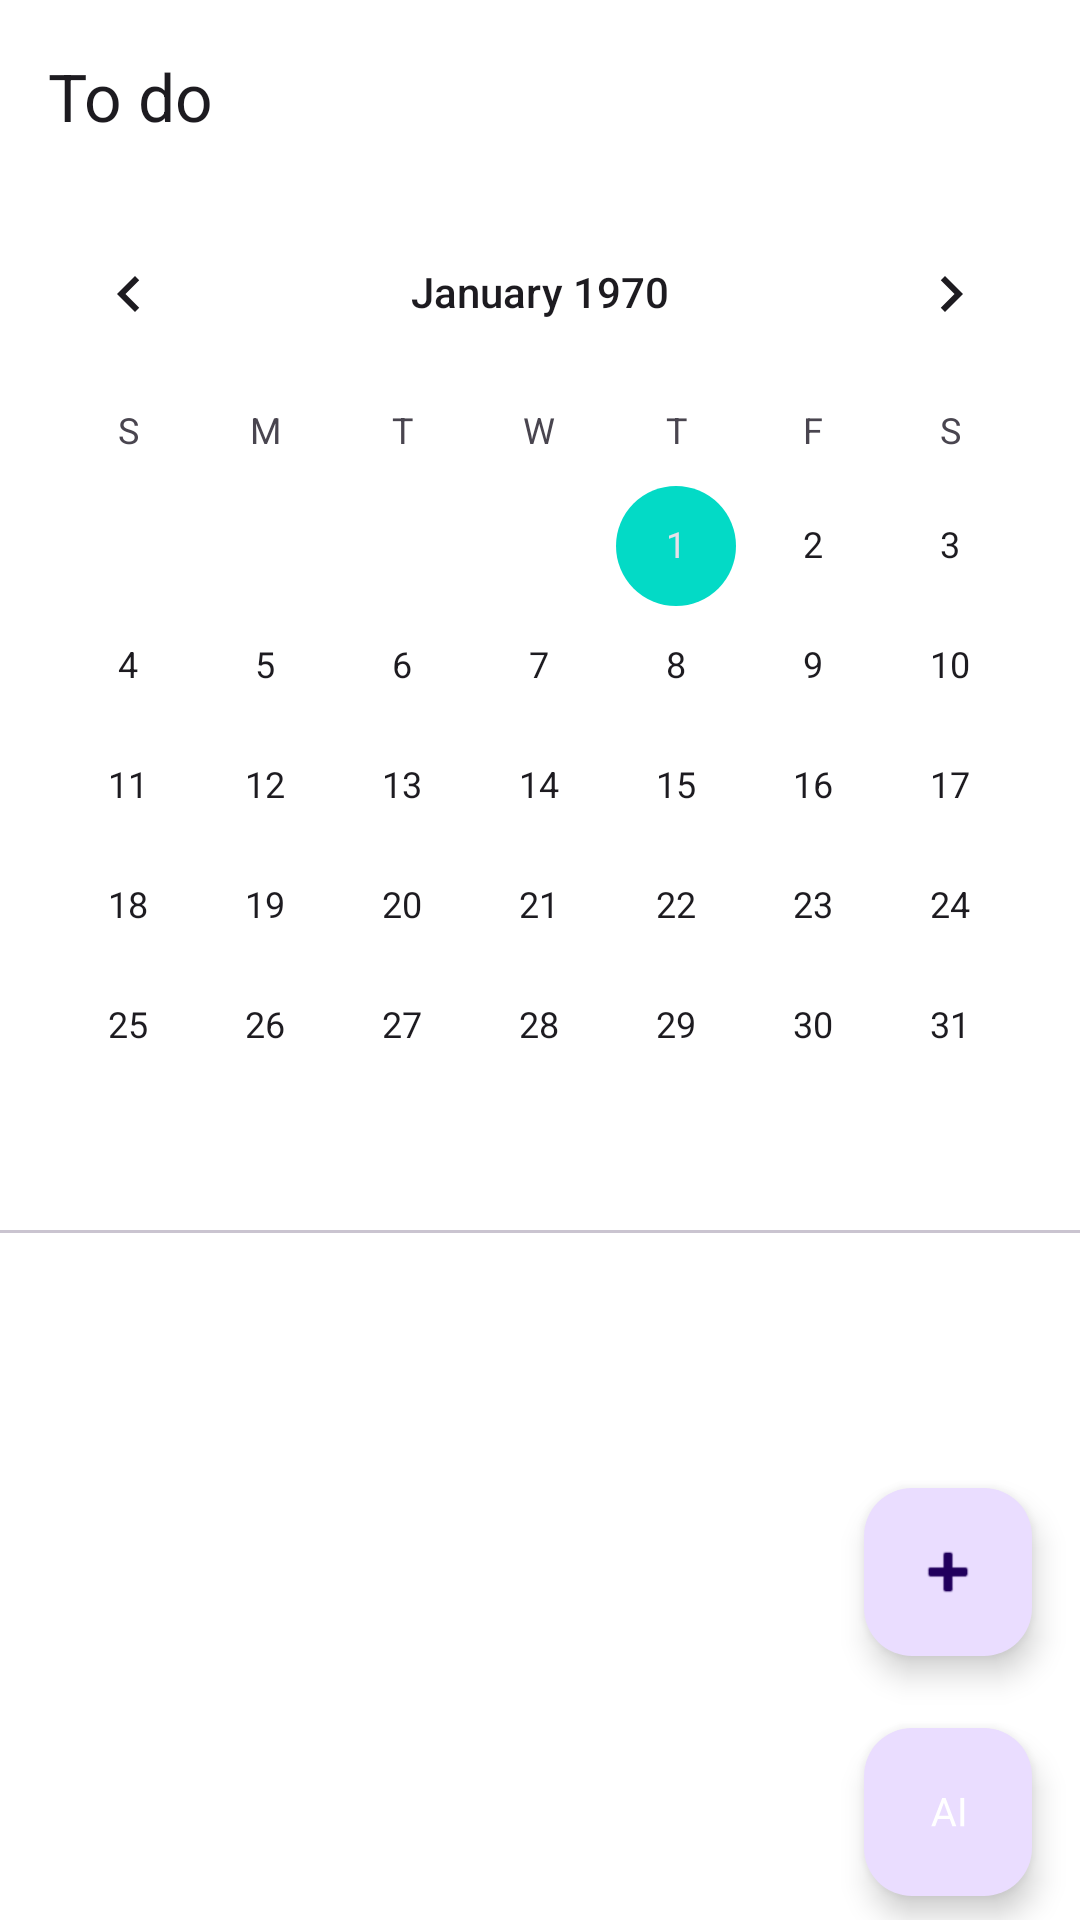

Named icons in this screenshot (1080px x 1920px) and their centers, [x,y]:
Button to add new task: [948,1572]
